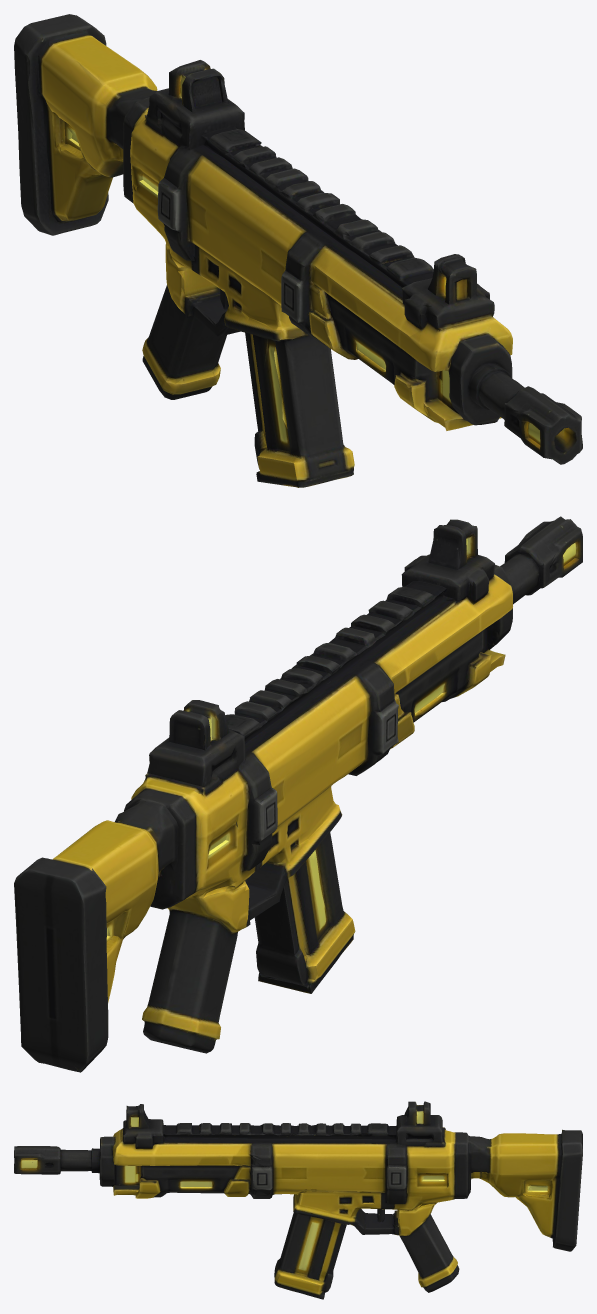
Rendered from amarillo.high.glb.
The picture shows the model from 3 angles, top to bottom: view 1: azimuth 30°, elevation 25°; view 2: azimuth 150°, elevation 25°; view 3: azimuth 270°, elevation 25°; orthographic projection. The views are drawn at different scales.
Visible parts, largest first — view 1: model; view 2: model; view 3: model.
Boxes of the visible parts, x1,y1,x2,y2 form: model: (14, 14, 582, 487); model: (14, 516, 582, 1072); model: (14, 1101, 582, 1299).
Bounding box in the file's own units: 0.0751 × 0.2338 × 0.64.
Materials: 1 (1 with a texture image).
